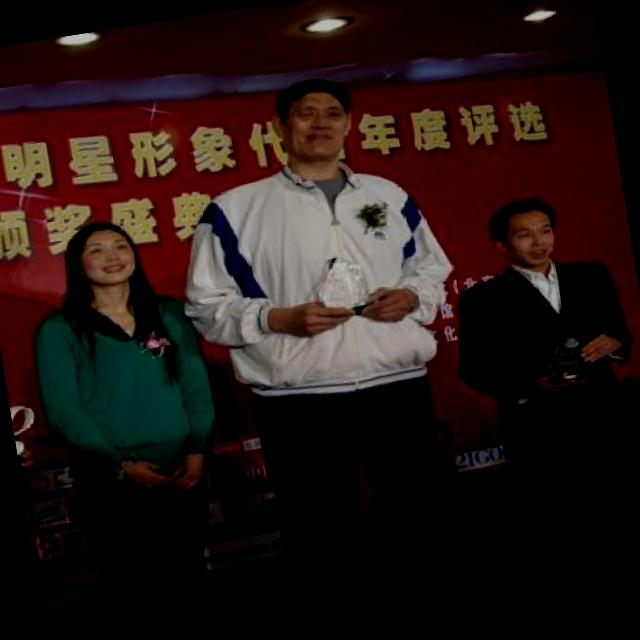Person: (178, 62, 488, 640), (18, 211, 264, 640), (456, 183, 640, 572)
